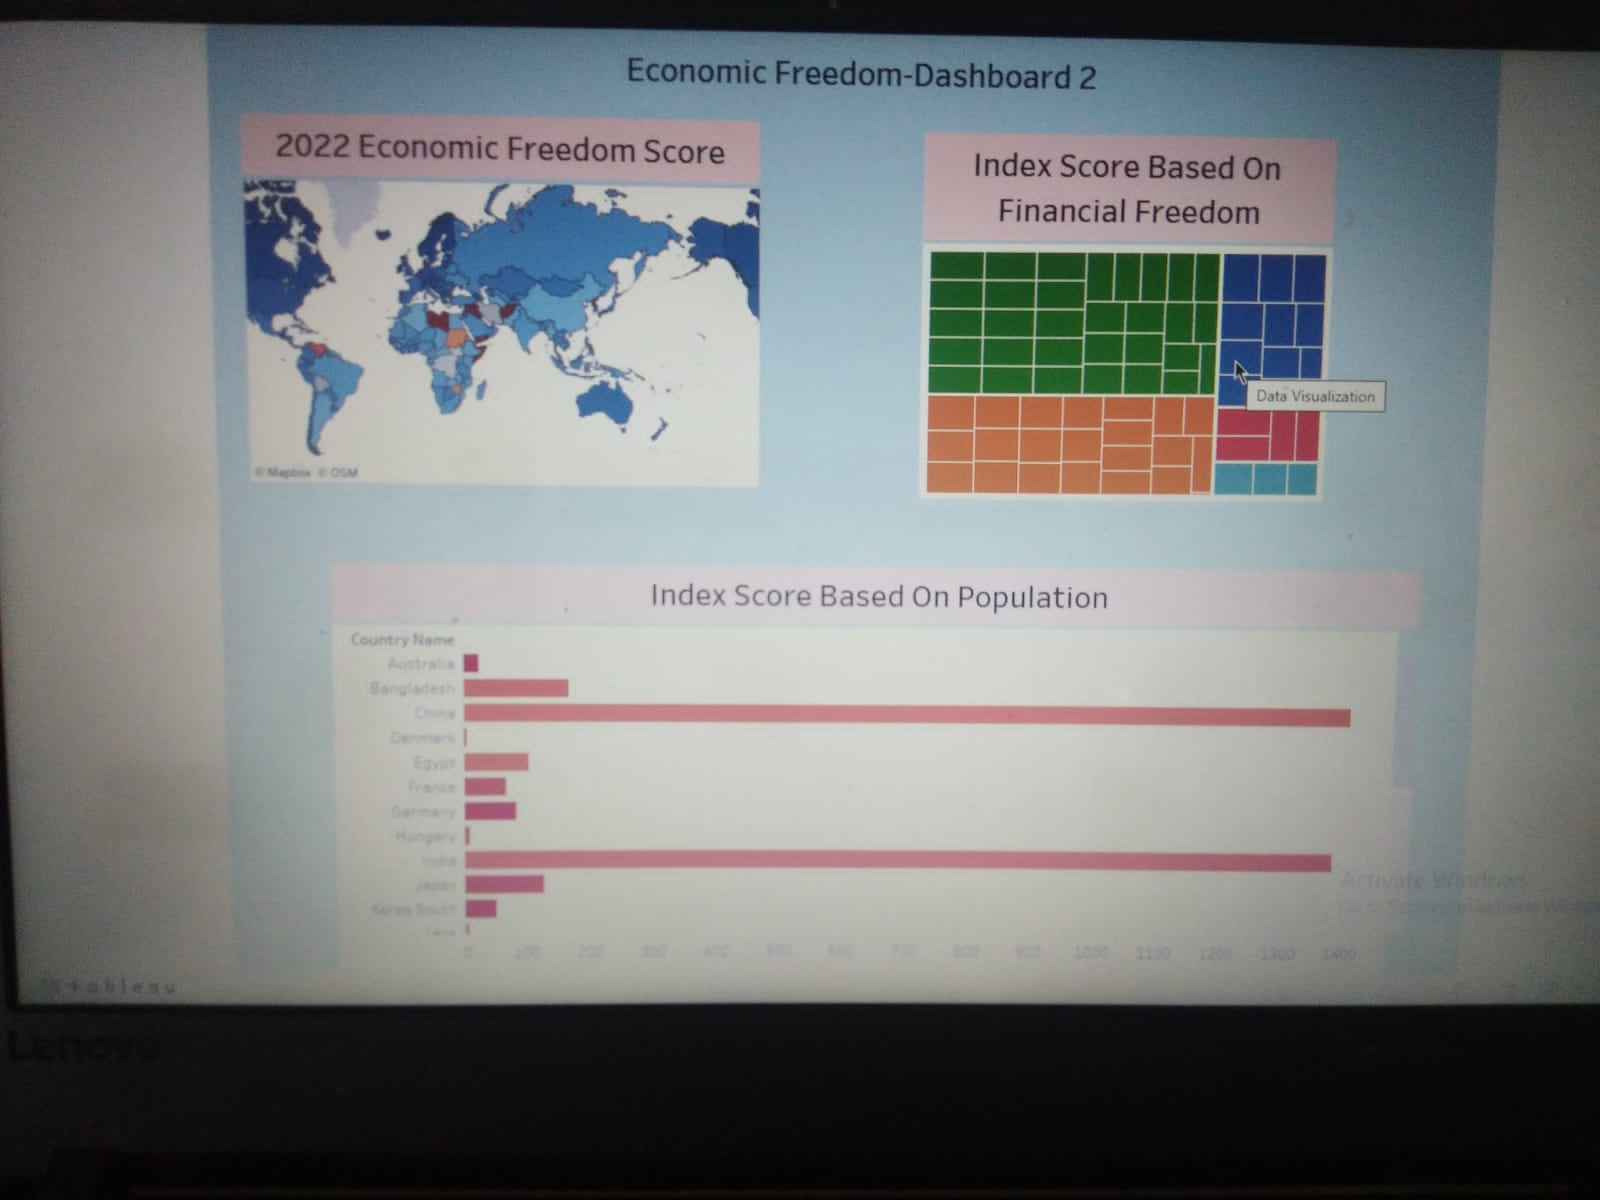

Layout of this report page (visuals, bound fields, positions):
{"tool":"tableau","page":{"name":"Dashboard 2","canvas":[1000,800],"ordinal":1},"visuals":[{"type":"title","box":[8,8,984,41]},{"type":"worksheet","title":"2022 Economic Freedom Score","mark":"Multipolygon","box":[25,66,397,281]},{"type":"worksheet","title":"Index score based on financial freedom","mark":"Automatic","box":[549,72,419,283]},{"type":"worksheet","title":"Index score based on population","mark":"Automatic","rows":["Country Name"],"cols":["Population (Millions)"],"box":[85,409,870,357]}]}

Visuals, with their boxes on the page's 1000x800 design canvas (x1, y1, x2, y2). These are canvas units, not pixel positions in the 1600x1200 screenshot, which may show the page scaled, cropped or inside an application window:
title: x1=8 y1=8 x2=992 y2=49
"2022 Economic Freedom Score" worksheet (Multipolygon marks): x1=25 y1=66 x2=422 y2=347
"Index score based on financial freedom" worksheet: x1=549 y1=72 x2=968 y2=355
"Index score based on population" worksheet: x1=85 y1=409 x2=955 y2=766
